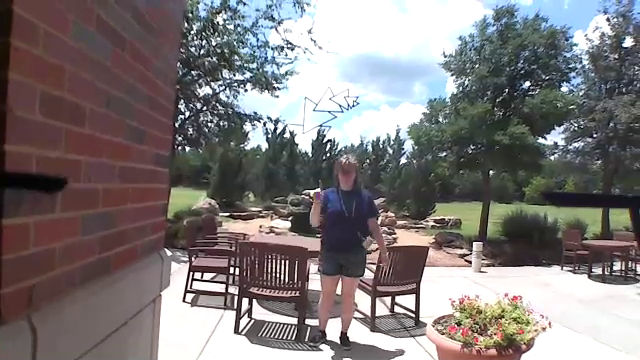up: (308, 178, 327, 207)
